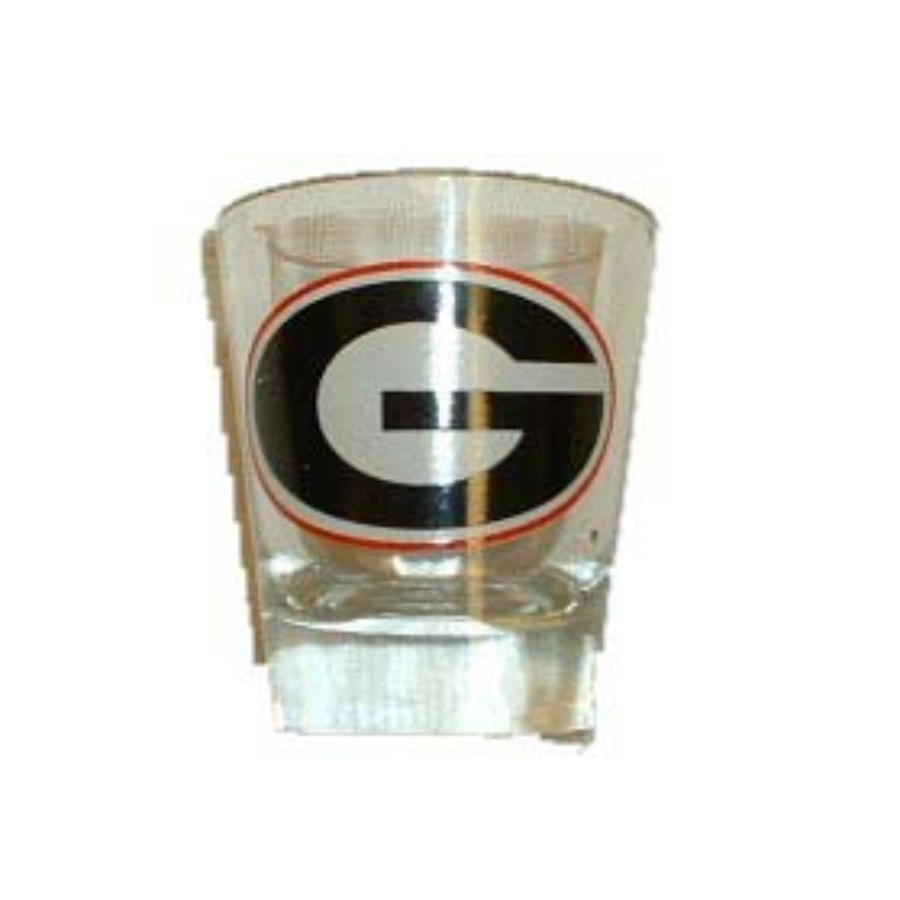whiskey: (220, 196, 652, 743)
